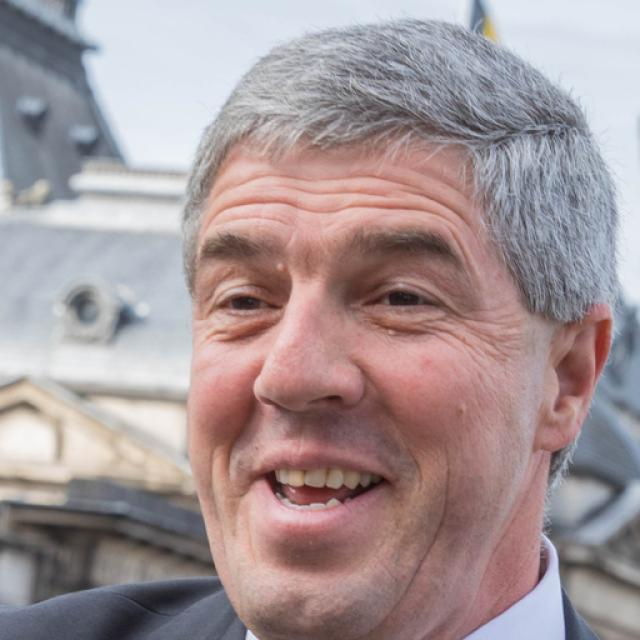Acne: (454, 400, 476, 418)
Wrinkle: (215, 168, 490, 245), (201, 195, 453, 240), (275, 182, 393, 200)
